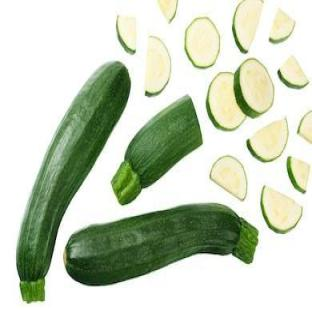Zucchini: (16, 63, 130, 302), (64, 204, 257, 285), (112, 96, 202, 205), (234, 59, 274, 117), (207, 72, 245, 130), (261, 186, 302, 233), (247, 118, 288, 161), (185, 17, 219, 68), (210, 155, 247, 200), (145, 36, 171, 95), (278, 56, 308, 88), (269, 9, 295, 43), (287, 156, 309, 193), (116, 16, 137, 54), (298, 111, 311, 143)
